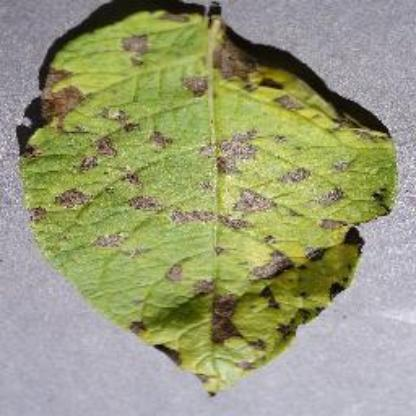Early-Blight: (19, 8, 400, 396)
